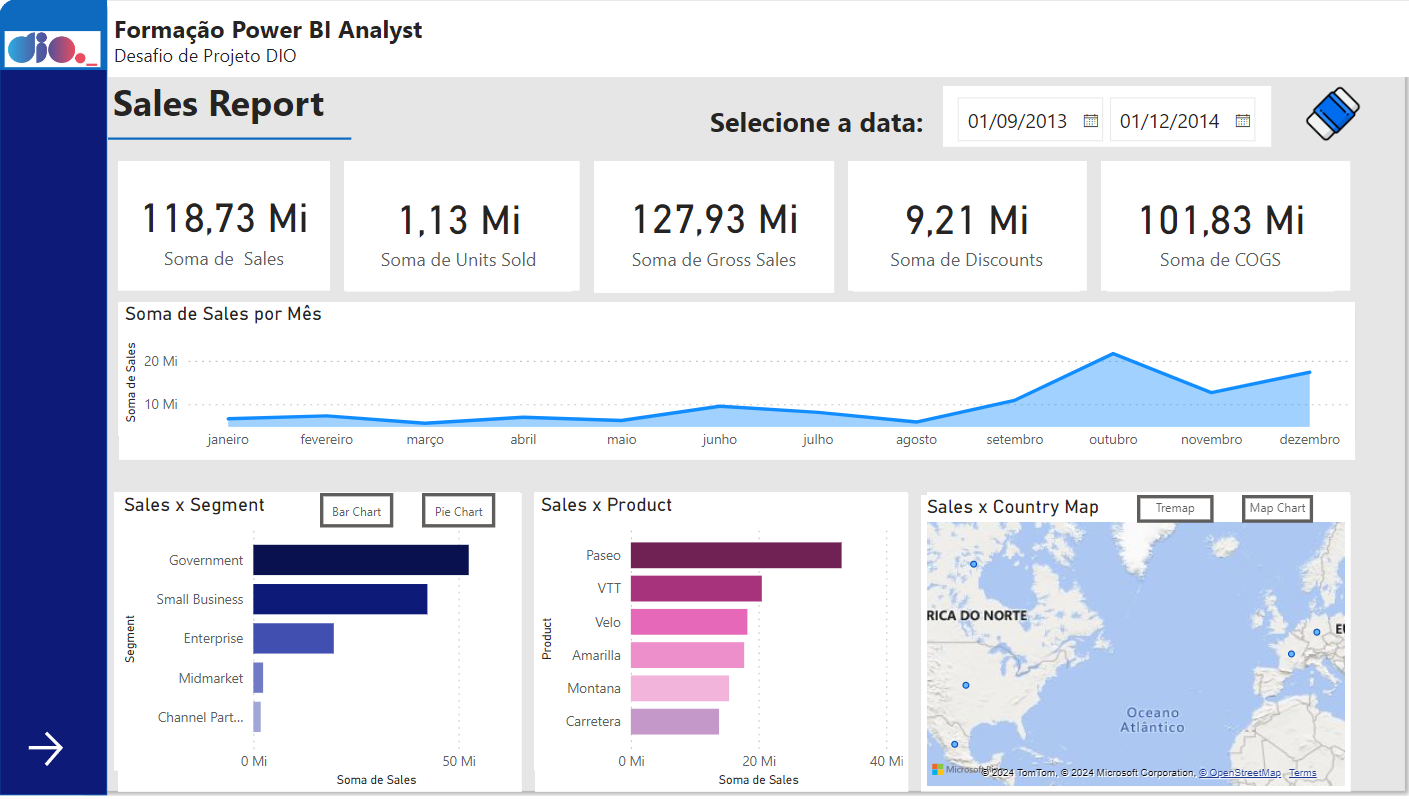

What the dashboard file says about the page in this screenshot:
{"tool":"powerbi","page":{"name":"Página 1","canvas":[1280,720],"ordinal":0},"visuals":[{"type":"shape","box":[61.8,4.3,1193.3,709.9],"z":0},{"type":"slicer","fields":{"Values":["financials (2).Date"]},"box":[837.3,80.6,291.1,54.1],"z":0,"group":"g2"},{"type":"shape","box":[105.8,146.8,188.4,115.5],"z":0,"group":"g1"},{"type":"clusteredBarChart","title":"Sales x Segment ","fields":{"Category":["financials (2).Segment"],"Y":["Sum(financials (2). Sales)"]},"box":[105.5,441.5,358.3,264.8],"z":0,"group":"g4"},{"type":"shape","box":[0,9.6,96.2,700.2],"z":1000},{"type":"textbox","box":[625.6,90.2,232.2,54.1],"z":1000,"group":"g2"},{"type":"shape","box":[306.5,146.8,209,115.5],"z":1000,"group":"g1"},{"type":"map","title":"Sales x Country Map","fields":{"Category":["financials (2).Country"]},"box":[817.5,442.6,380.9,263.4],"z":1000,"group":"g3"},{"type":"actionButton","title":"Botão Bar","box":[285,441.5,65,30.6],"z":1250,"group":"g4"},{"type":"actionButton","title":"Botão Pie Chart","box":[375.7,441.5,65,30.6],"z":1500,"group":"g4"},{"type":"actionButton","title":"Botão Map","box":[1102,442.7,63.1,24.6],"z":1500,"group":"g3"},{"type":"shape","box":[0,3.9,96.1,63.1],"z":2000},{"type":"actionButton","box":[1140.5,73.4,74.6,61.4],"z":2000,"group":"g2"},{"type":"shape","box":[527.9,146.8,210.4,115.5],"z":2000,"group":"g1"},{"type":"actionButton","title":"Botão Tremap","box":[1008.6,442.7,67.9,24.6],"z":2000,"group":"g3"},{"type":"shape","box":[96.2,9.8,1158.7,62.7],"z":3000},{"type":"image","title":"clean","box":[1153.2,73.9,61.4,61.4],"z":3000,"group":"g2"},{"type":"shape","box":[977.5,146.8,221.4,115.5],"z":3000,"group":"g1"},{"type":"group","id":"g1","title":"Cartões","box":[105.8,146.8,1093,117.8],"z":4000},{"type":"shape","box":[753.4,146.8,211.7,115.5],"z":4000,"group":"g1"},{"type":"shape","box":[96.5,107.3,215.7,40.1],"z":5000},{"type":"card","fields":{"Values":["Sum(financials (2).Discounts)"]},"box":[757.1,148.6,201.4,114.3],"z":5000,"group":"g1"},{"type":"card","fields":{"Values":["Sum(financials (2).COGS)"]},"box":[982.8,148.6,201.4,114.3],"z":6000,"group":"g1"},{"type":"shape","box":[96.2,263.5,1108.5,136.6],"z":6000},{"type":"card","fields":{"Values":["Sum(financials (2).Gross Sales)"]},"box":[527.8,147.1,212.7,117.5],"z":7000,"group":"g1"},{"type":"shape","box":[102.4,440.3,360.1,247.5],"z":7000},{"type":"card","fields":{"Values":["Sum(financials (2). Sales)"]},"box":[105.8,155.3,187.7,97.3],"z":8000,"group":"g1"},{"type":"shape","box":[474.5,440.3,331.1,247.5],"z":8000},{"type":"card","fields":{"Values":["Sum(financials (2).Units Sold)"]},"box":[307.2,148.5,201.4,114.3],"z":9000,"group":"g1"},{"type":"shape","box":[822.6,440.3,375.5,249.2],"z":9000},{"type":"image","title":"logo dio","box":[0,0,95.2,95.2],"z":10000},{"type":"areaChart","fields":{"Y":["Sum(financials (2). Sales)"],"Category":["financials (2).Date.Variation.Hierarquia de datas.Mês"]},"box":[106.4,272.1,1095.7,139.7],"z":11000},{"type":"clusteredBarChart","title":"Sales x Product","fields":{"Category":["financials (2).Product"],"Y":["Sum(financials (2). Sales)"]},"box":[474.9,441.5,331.4,264.7],"z":12000},{"type":"group","id":"g2","title":"Filtro por data","box":[625.6,73.4,589.5,71],"z":13000},{"type":"group","id":"g3","title":"Sales x País","box":[817.5,440.3,380.9,279.5],"z":14000},{"type":"group","id":"g4","title":"Sales x Segment","box":[101.4,441.5,362.4,268.4],"z":15000},{"type":"actionButton","box":[20.3,648.1,47.3,40.5],"z":16000},{"type":"textbox","box":[96.5,9.9,1158.8,63.1],"z":17000},{"type":"textbox","box":[95.4,67.2,210.3,60.7],"z":18000}]}

Visuals, with their boxes in screenshot pixels (x1, y1, x2, y2), scaled from the page's 1280x720 canvas onto the 1409x799 screenshot:
shape: <region>68, 5, 1382, 793</region>
slicer - financials (2).Date: <region>922, 89, 1242, 149</region>
shape: <region>116, 163, 324, 291</region>
"Sales x Segment " clusteredBarChart: <region>116, 490, 511, 784</region>
shape: <region>0, 11, 106, 788</region>
textbox: <region>689, 100, 944, 160</region>
shape: <region>337, 163, 567, 291</region>
"Sales x Country Map" map: <region>900, 491, 1319, 783</region>
"Botão Bar" actionButton: <region>314, 490, 385, 524</region>
"Botão Pie Chart" actionButton: <region>414, 490, 485, 524</region>
"Botão Map" actionButton: <region>1213, 491, 1283, 519</region>
shape: <region>0, 4, 106, 74</region>
actionButton: <region>1255, 81, 1338, 150</region>
shape: <region>581, 163, 813, 291</region>
"Botão Tremap" actionButton: <region>1110, 491, 1185, 519</region>
shape: <region>106, 11, 1381, 80</region>
"clean" image: <region>1269, 82, 1337, 150</region>
shape: <region>1076, 163, 1320, 291</region>
"Cartões" group: <region>116, 163, 1320, 294</region>
shape: <region>829, 163, 1062, 291</region>
shape: <region>106, 119, 344, 164</region>
card - Sum(financials (2).Discounts): <region>833, 165, 1055, 292</region>
card - Sum(financials (2).COGS): <region>1082, 165, 1304, 292</region>
shape: <region>106, 292, 1326, 444</region>
card - Sum(financials (2).Gross Sales): <region>581, 163, 815, 294</region>
shape: <region>113, 489, 509, 763</region>
card - Sum(financials (2). Sales): <region>116, 172, 323, 280</region>
shape: <region>522, 489, 887, 763</region>
card - Sum(financials (2).Units Sold): <region>338, 165, 560, 292</region>
shape: <region>906, 489, 1319, 765</region>
"logo dio" image: <region>0, 0, 105, 106</region>
areaChart - Sum(financials (2). Sales) x financials (2).Date.Variation.Hierarquia de datas.Mês: <region>117, 302, 1323, 457</region>
"Sales x Product" clusteredBarChart: <region>523, 490, 888, 784</region>
"Filtro por data" group: <region>689, 81, 1338, 160</region>
"Sales x País" group: <region>900, 489, 1319, 798</region>
"Sales x Segment" group: <region>112, 490, 511, 788</region>
actionButton: <region>22, 719, 74, 764</region>
textbox: <region>106, 11, 1382, 81</region>
textbox: <region>105, 75, 337, 142</region>
